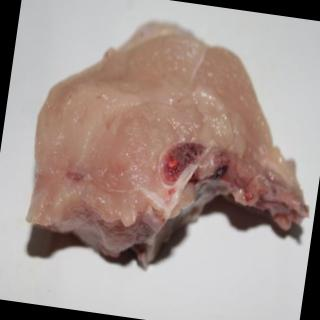Ayam: (16, 3, 320, 294)
